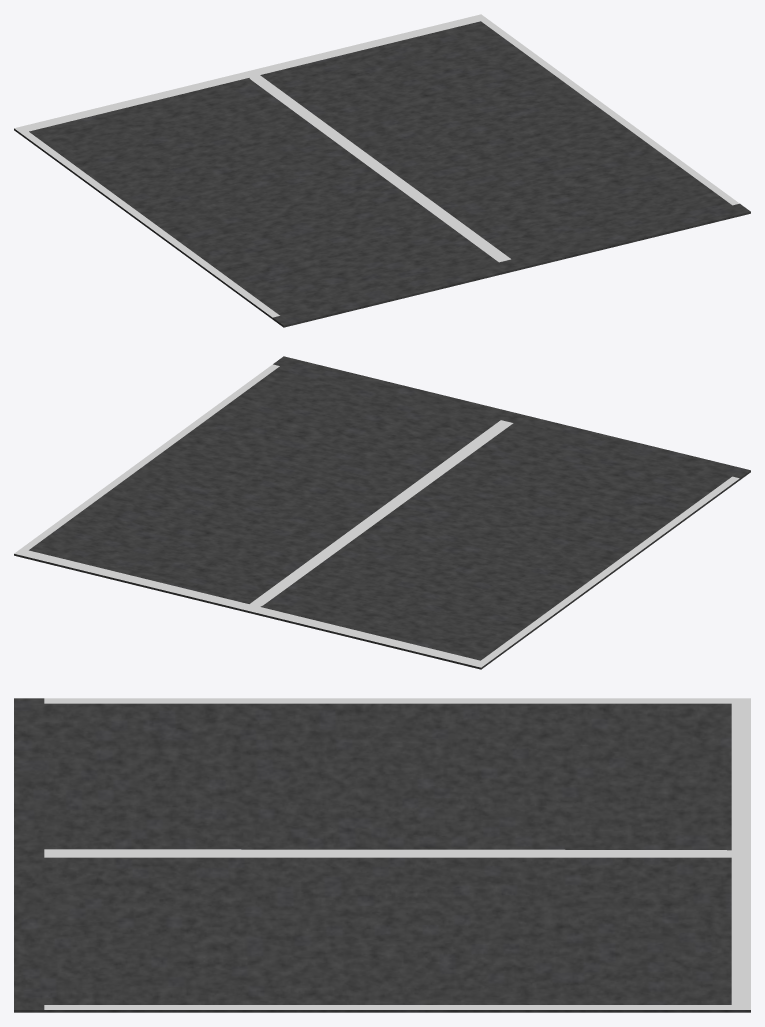
The model's file is mag_white_multi_car_parking.glb.
3 renders of one model, top to bottom at view 1: azimuth 30°, elevation 25°; view 2: azimuth 150°, elevation 25°; view 3: azimuth 270°, elevation 25°, orthographic. The views are drawn at different scales.
Parts seen in each view (by area): view 1: nft_0; view 2: nft_0; view 3: nft_0.
Boxes of the visible parts, x1=… form: nft_0: x1=14, y1=14, x2=750, y2=327; nft_0: x1=14, y1=356, x2=750, y2=669; nft_0: x1=14, y1=698, x2=750, y2=1012.
Bounding box in the file's own units: 4.98 × 0.02 × 4.98.
Materials: 1 (1 with a texture image).
